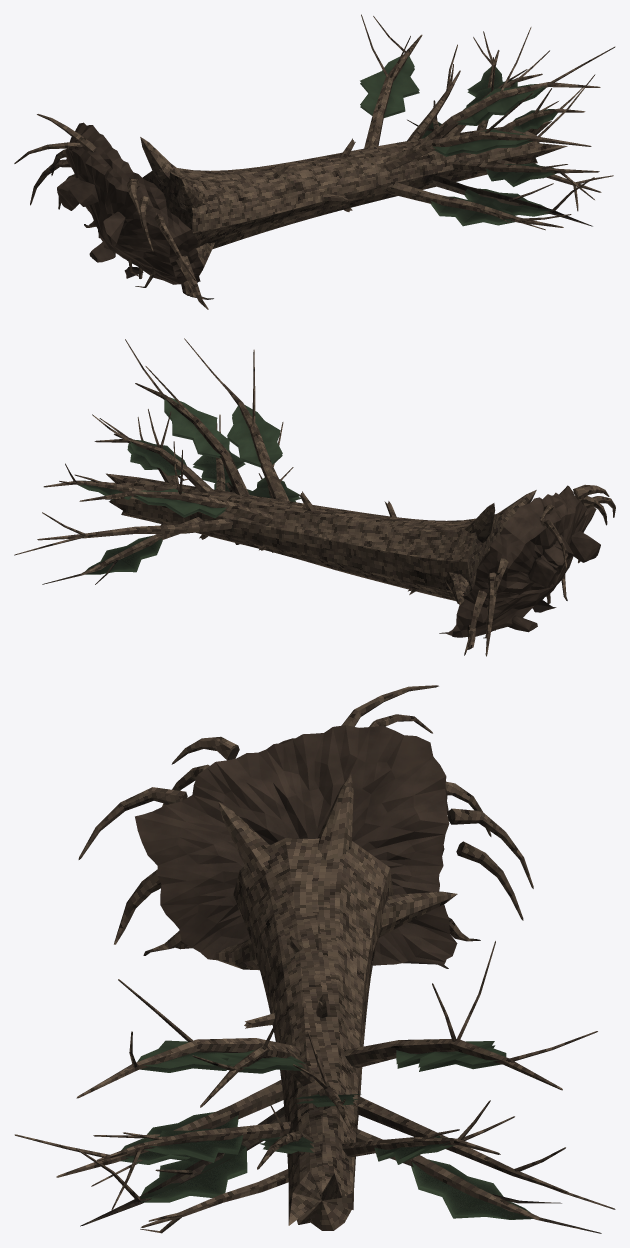
Rendered from snow_log_b.glb.
3 views of the same model, one above another, from view 1: azimuth 30°, elevation 25°; view 2: azimuth 150°, elevation 25°; view 3: azimuth 270°, elevation 25° (orthographic). The views are drawn at different scales.
Parts seen in each view (by area): view 1: snow_log_b.004; view 2: snow_log_b.004; view 3: snow_log_b.004.
Part boxes in pixels (x1=…): snow_log_b.004: x1=14, y1=14, x2=615, y2=309; snow_log_b.004: x1=14, y1=338, x2=615, y2=656; snow_log_b.004: x1=14, y1=685, x2=615, y2=1233.
Bounding box in the file's own units: 4.65 × 1.26 × 3.
3 materials, 3 textured.
